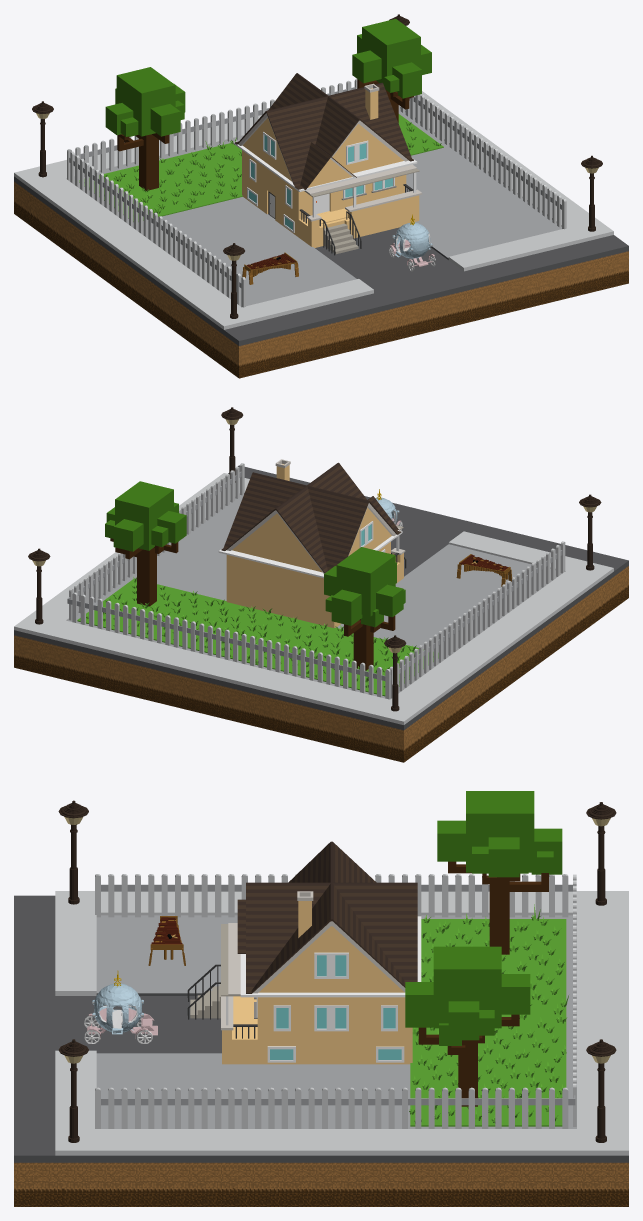
The picture shows the model from 3 angles, top to bottom: view 1: azimuth 30°, elevation 25°; view 2: azimuth 150°, elevation 25°; view 3: azimuth 270°, elevation 25°; orthographic projection. The views are drawn at different scales.
Parts seen in each view (by area): view 1: Cube.004, Cube.235, VEHICLES_FANTASY_CARRIAGE, OBJRANDOM_MARIMBA; view 2: Cube.004, Cube.235, OBJRANDOM_MARIMBA; view 3: Cube.004, Cube.235, VEHICLES_FANTASY_CARRIAGE, OBJRANDOM_MARIMBA.
Boxes of the visible parts, <box> form: Cube.004: <box>14,14,628,378</box>; Cube.235: <box>233,73,422,255</box>; VEHICLES_FANTASY_CARRIAGE: <box>389,214,435,271</box>; OBJRANDOM_MARIMBA: <box>242,252,298,284</box>; Cube.004: <box>14,407,628,762</box>; Cube.235: <box>218,459,406,627</box>; OBJRANDOM_MARIMBA: <box>456,554,512,586</box>; Cube.004: <box>14,791,628,1206</box>; Cube.235: <box>187,841,421,1064</box>; VEHICLES_FANTASY_CARRIAGE: <box>84,970,157,1043</box>; OBJRANDOM_MARIMBA: <box>148,916,185,965</box>.
Bounding box in the file's own units: 4000 × 1601 × 4000.
Materials: 33 (3 with a texture image).
